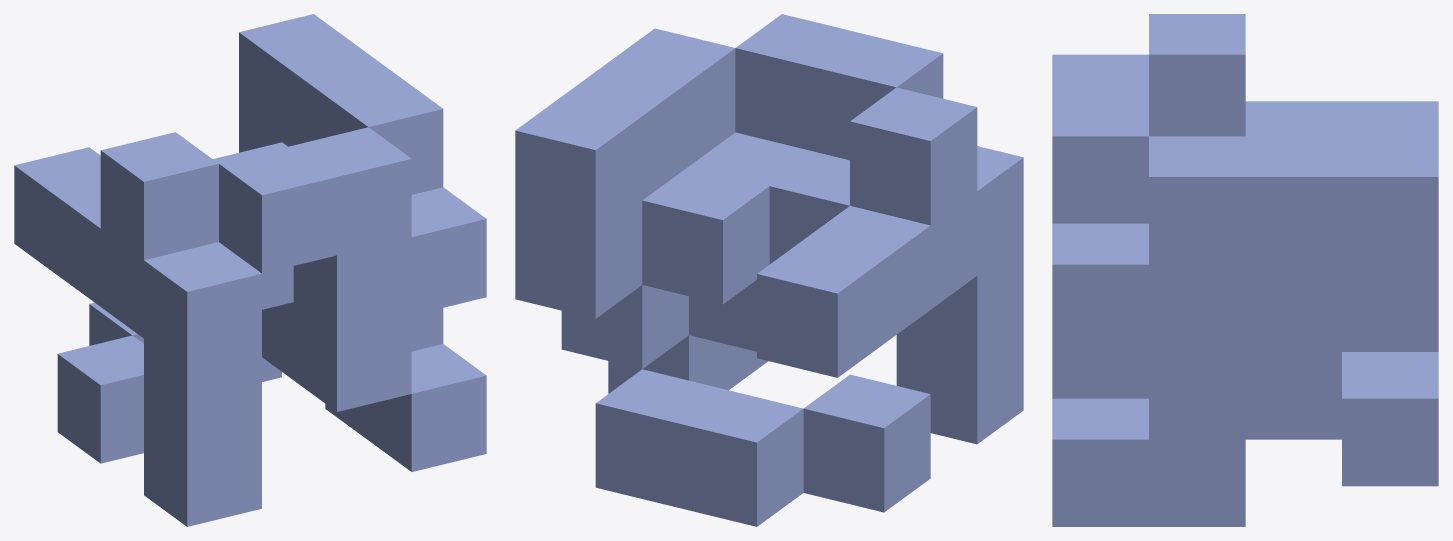
The picture shows the model from 3 angles, left to right: view 1: azimuth 30°, elevation 25°; view 2: azimuth 150°, elevation 25°; view 3: azimuth 270°, elevation 25°; orthographic projection. The views are drawn at different scales.
Parts seen in each view (by area): view 1: _changes.021; view 2: _changes.021; view 3: _changes.021.
Part boxes in pixels (<box>): _changes.021: <box>14,14,486,526</box>; _changes.021: <box>515,14,1023,526</box>; _changes.021: <box>1052,14,1438,526</box>.
Bounding box in the file's own units: 0.1041 × 0.1041 × 0.1041.
